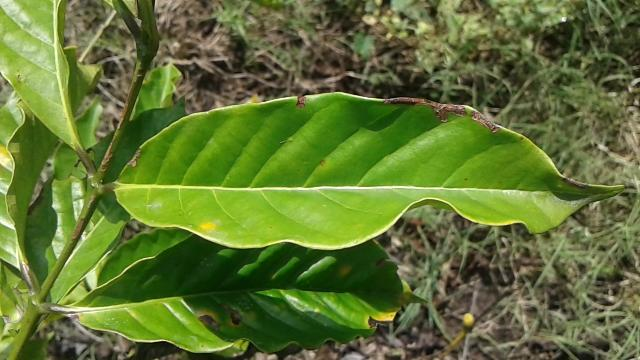rust_level_1: (116, 94, 624, 248)
